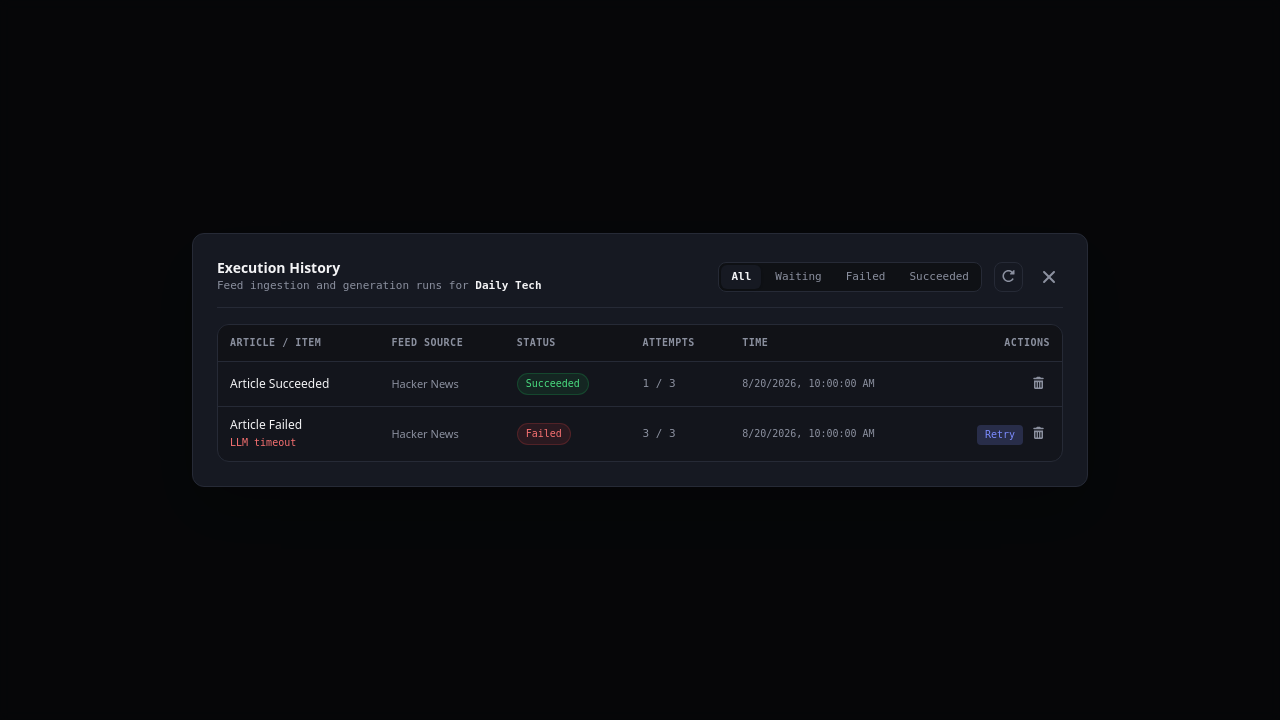
Scenario: WorkflowExecutionHistoryModal › filters items by status tabs
The image size is (1280, 720).
Check: the link "Article Succeeded" is shown, box [230,375,329,392]
Click 'Failed' filter tab
Click the button "Failed".
click(866, 276)  # box [836,264,895,288]
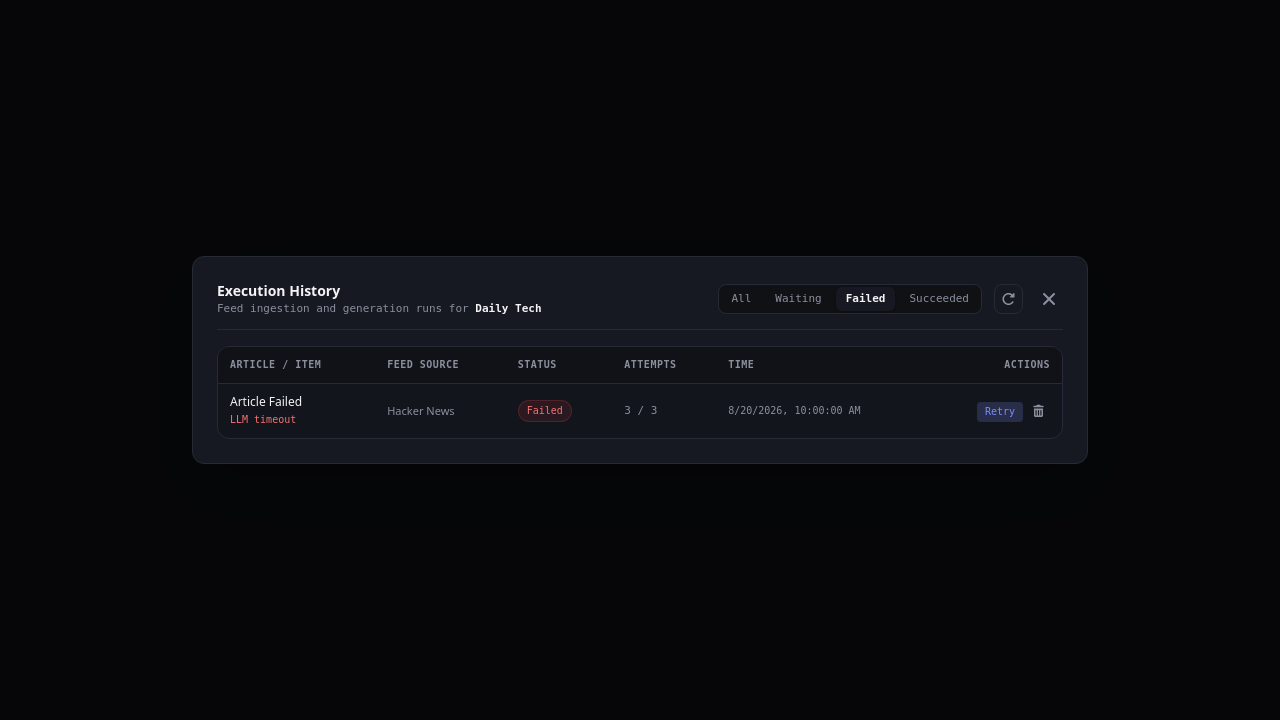
Check: the link "Article Failed" is shown, box [230,393,302,410]
Check: the link "Article Succeeded" is gone
